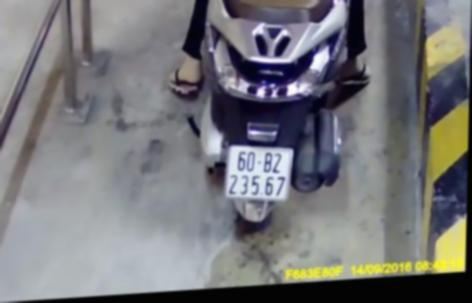License_Plate: (220, 137, 300, 209)
